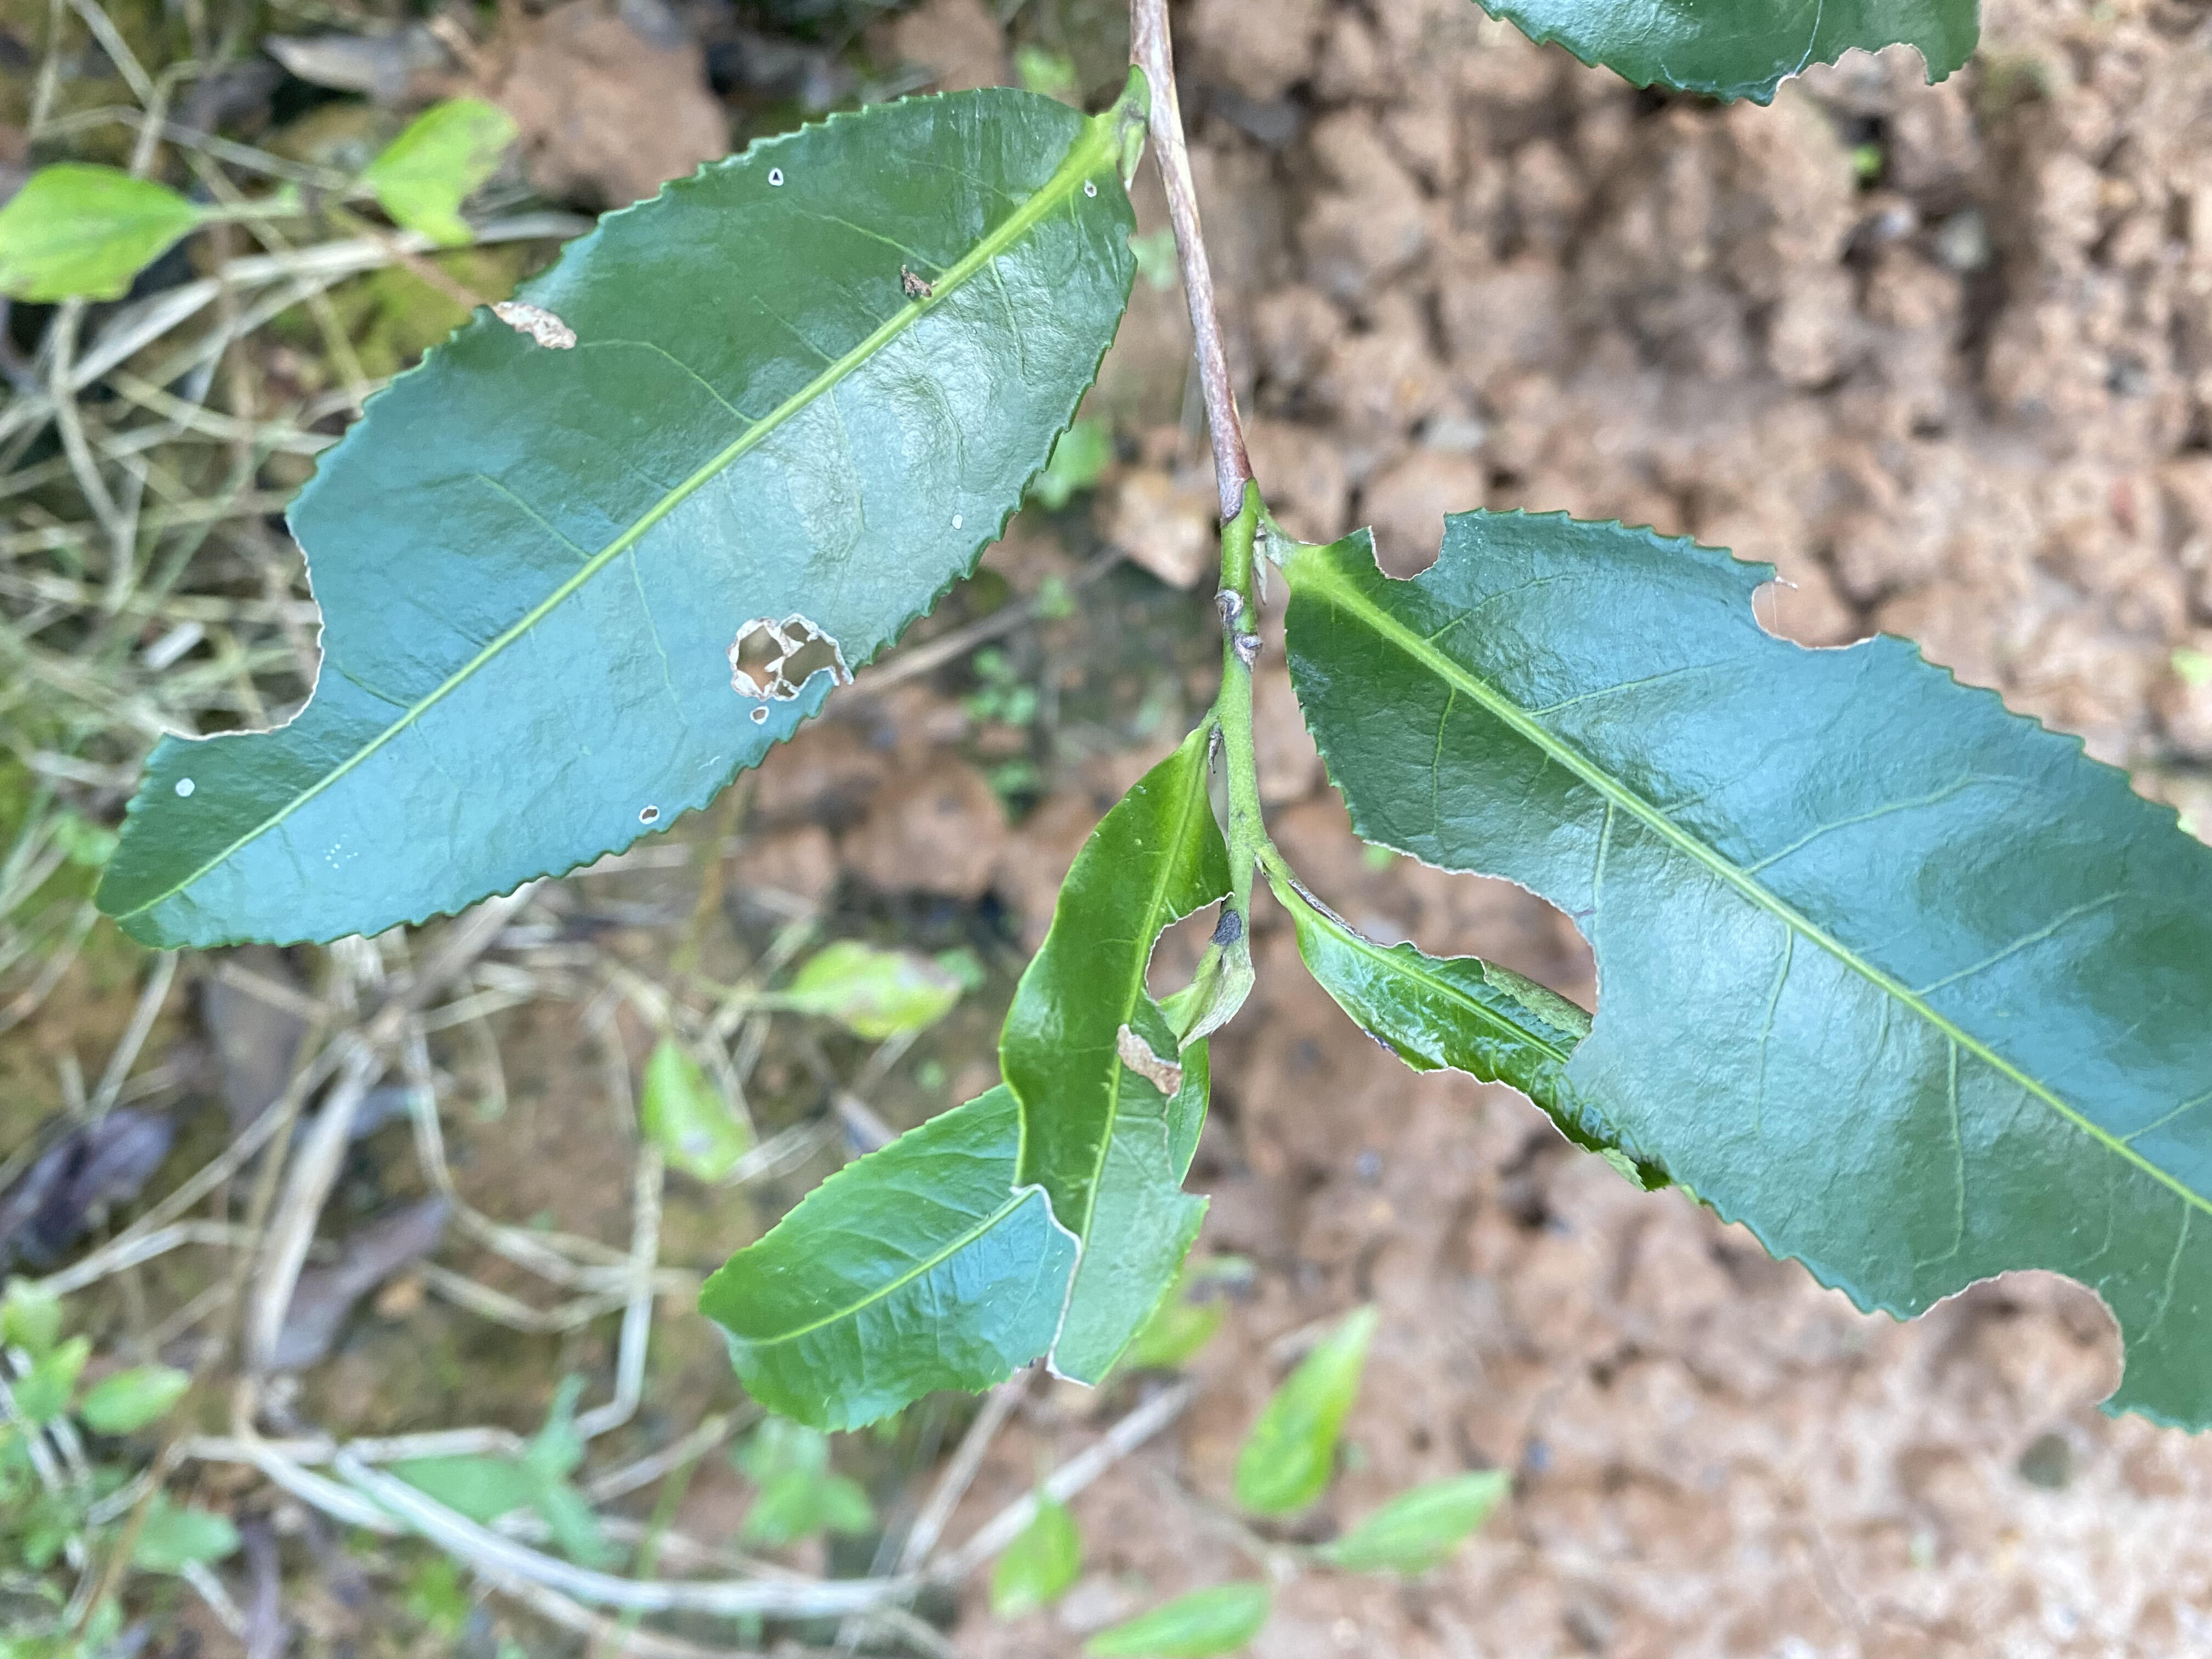chihuo_high: (89, 87, 1144, 953), (1280, 507, 2210, 1434), (993, 746, 1237, 1387)
